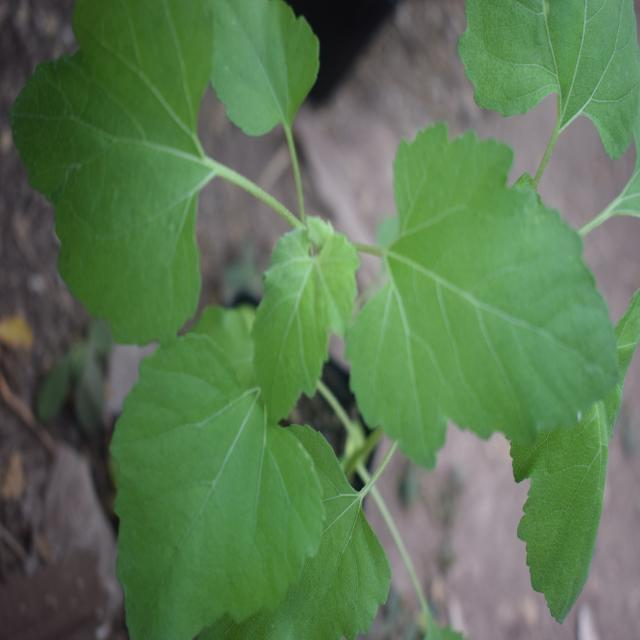cocklebur: (10, 37, 605, 621)
